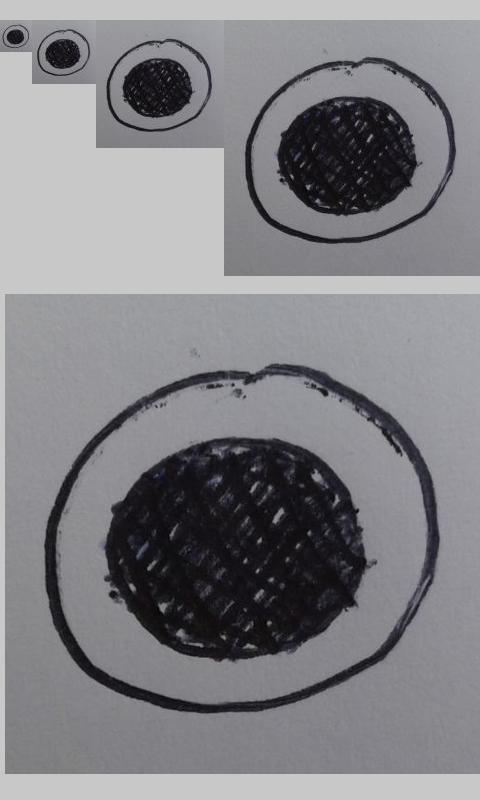radio_button: (43, 359, 440, 719), (242, 53, 458, 248), (106, 38, 212, 133), (36, 28, 91, 77), (2, 24, 30, 49)
